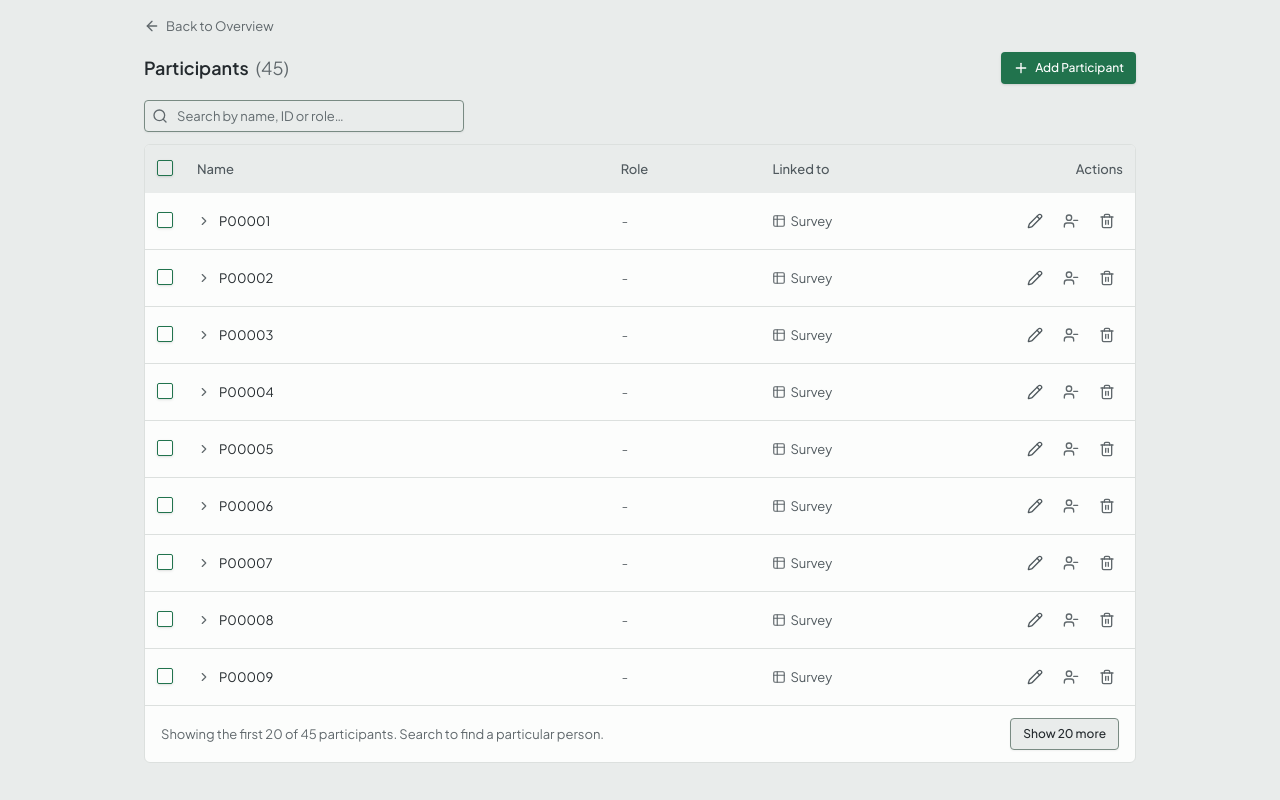
Test: #1072 — a bulk delete acts only on rows the researcher can see › a search that hides every selected row offers no delete at all
The width and height of the screenshot is (1280, 800).
Check: the text "P00001" is shown, box [219,211,270,231]
Step 1. Click the checkbox named "Select the 20 participants shown" → (165, 168), box [157,160,173,176]
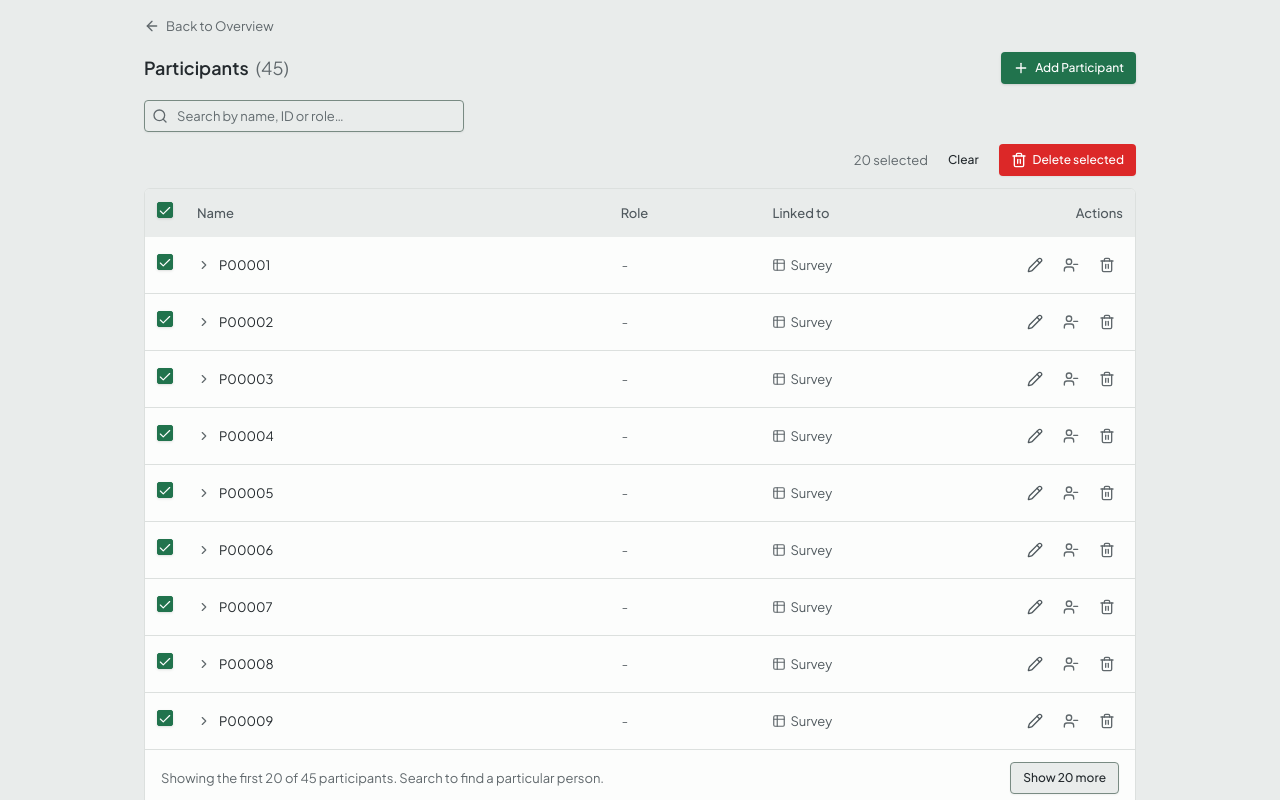
Check: the text "20 selected" is shown, box [854,150,928,170]
Step 2. Type "p00044" into the field named "Search participants by name, ID or role" → (304, 116), box [144,100,464,132]
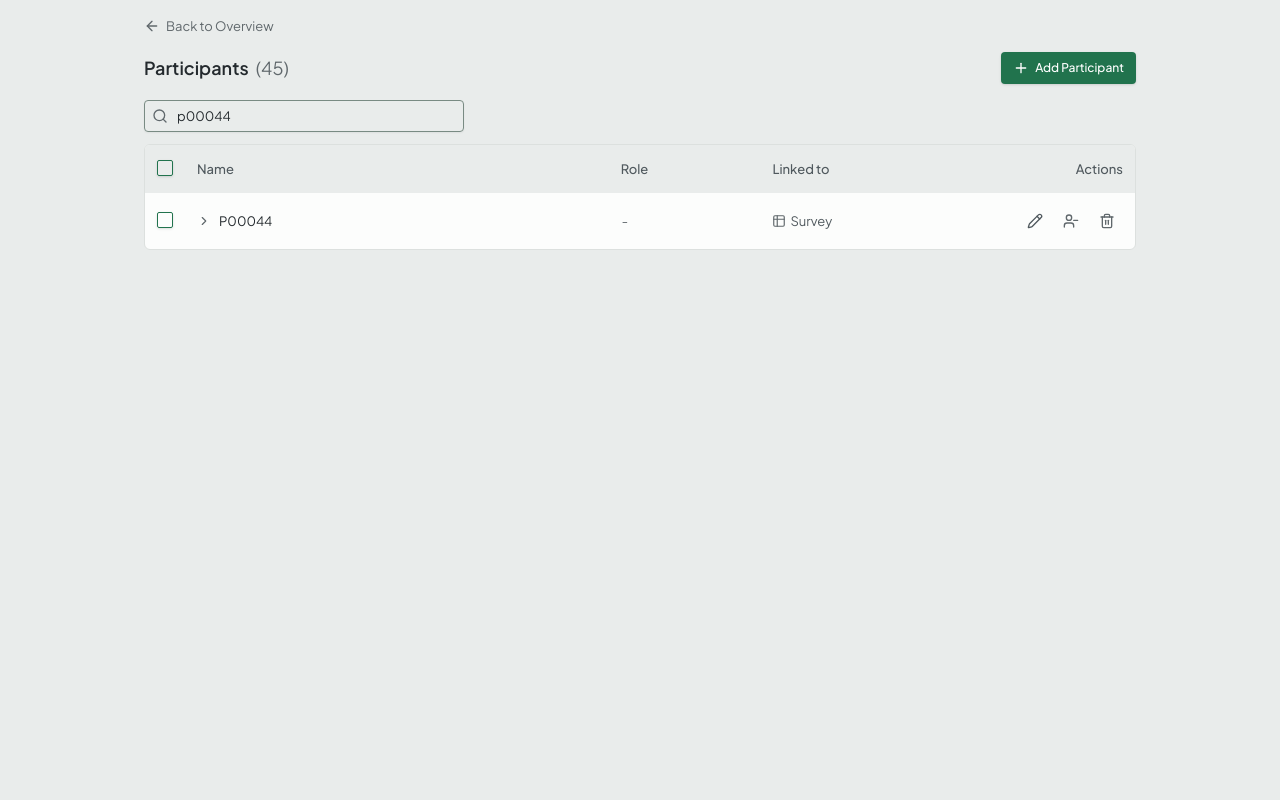
Check: the text "20 selected" is gone
Check: the button "Delete selected" is gone
